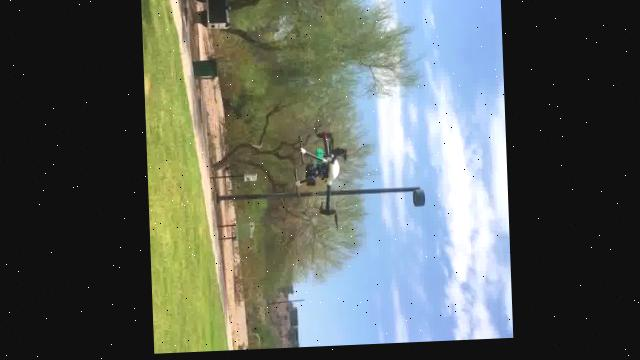drone: (291, 131, 350, 231)
